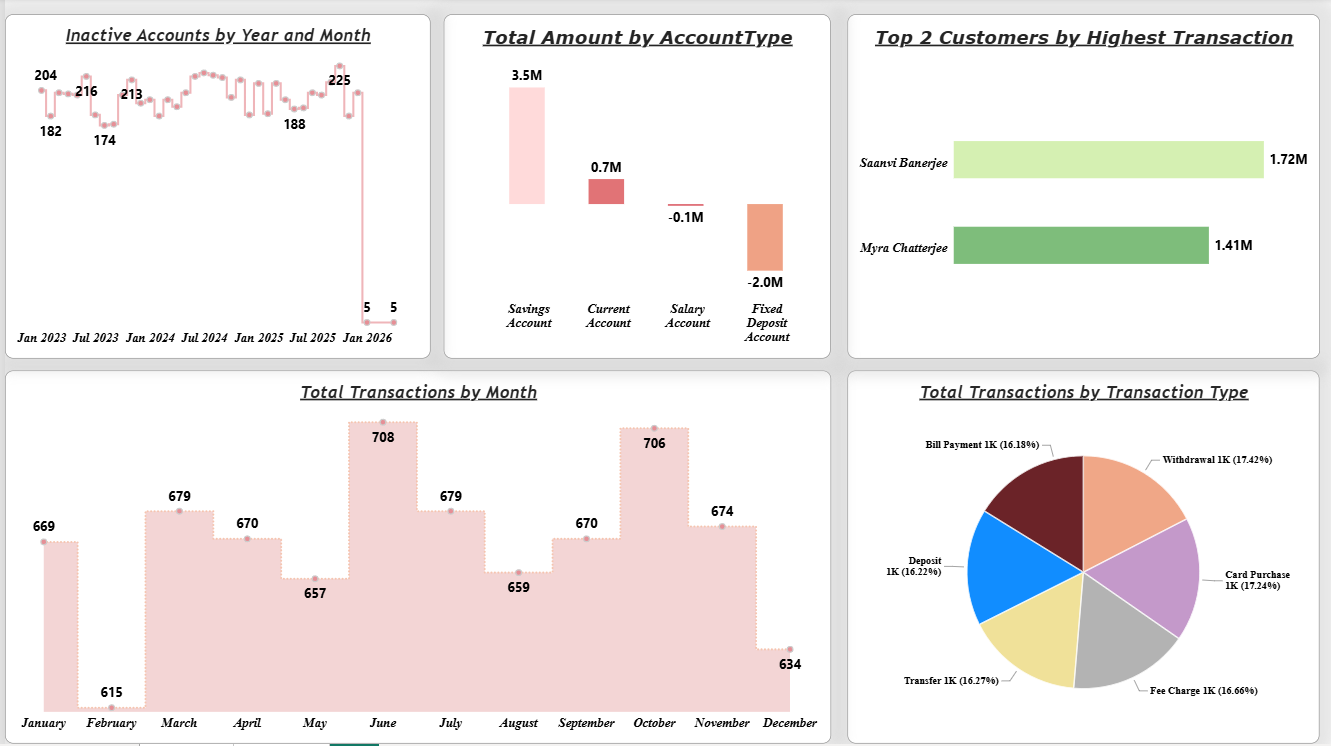

Layout of this report page (visuals, bound fields, positions):
{"tool":"powerbi","page":{"name":"Page 1","canvas":[1920,1080],"ordinal":0},"visuals":[{"type":"pieChart","title":"Total Transactions by Transaction Type ","fields":{"Category":["Bank_Account.TransactionType"],"Y":["Measures Table.Total Transactions"]},"box":[1220,540,683.3,540],"z":0},{"type":"areaChart","fields":{"Category":["Bank_Account.TransactionDate.Variation.Date Hierarchy.Month"],"Y":["Measures Table.Total Transactions"]},"box":[0,540,1196,540],"z":1000},{"type":"barChart","title":"Top 2 Customers by Highest Transaction","fields":{"Category":["Bank_Account.CustomerName"],"Y":["Sum(Bank_Account.Amount)"]},"box":[1220,24,684,498],"z":2000},{"type":"columnChart","fields":{"Category":["Bank_Account.AccountType"],"Y":["Measures Table.Total Amount"]},"box":[636,24,560,498],"z":3000},{"type":"lineChart","fields":{"Category":["Bank_Account.TransactionDate.Variation.Date Hierarchy.Year","Bank_Account.TransactionDate.Variation.Date Hierarchy.Month"],"Y":["Measures Table.Inactive Accounts"]},"box":[0,24,616,498],"z":4000}]}

Visuals, with their boxes in screenshot pixels (x1, y1, x2, y2), scaled from the page's 1920x1080 canvas onto the 1331x746 screenshot:
"Total Transactions by Transaction Type " pieChart: [x1=846, y1=373, x2=1319, y2=745]
areaChart - Bank_Account.TransactionDate.Variation.Date Hierarchy.Month x Measures Table.Total Transactions: [x1=0, y1=373, x2=829, y2=745]
"Top 2 Customers by Highest Transaction" barChart: [x1=846, y1=17, x2=1320, y2=361]
columnChart - Bank_Account.AccountType x Measures Table.Total Amount: [x1=441, y1=17, x2=829, y2=361]
lineChart - Bank_Account.TransactionDate.Variation.Date Hierarchy.Year x Bank_Account.TransactionDate.Variation.Date Hierarchy.Month: [x1=0, y1=17, x2=427, y2=361]
